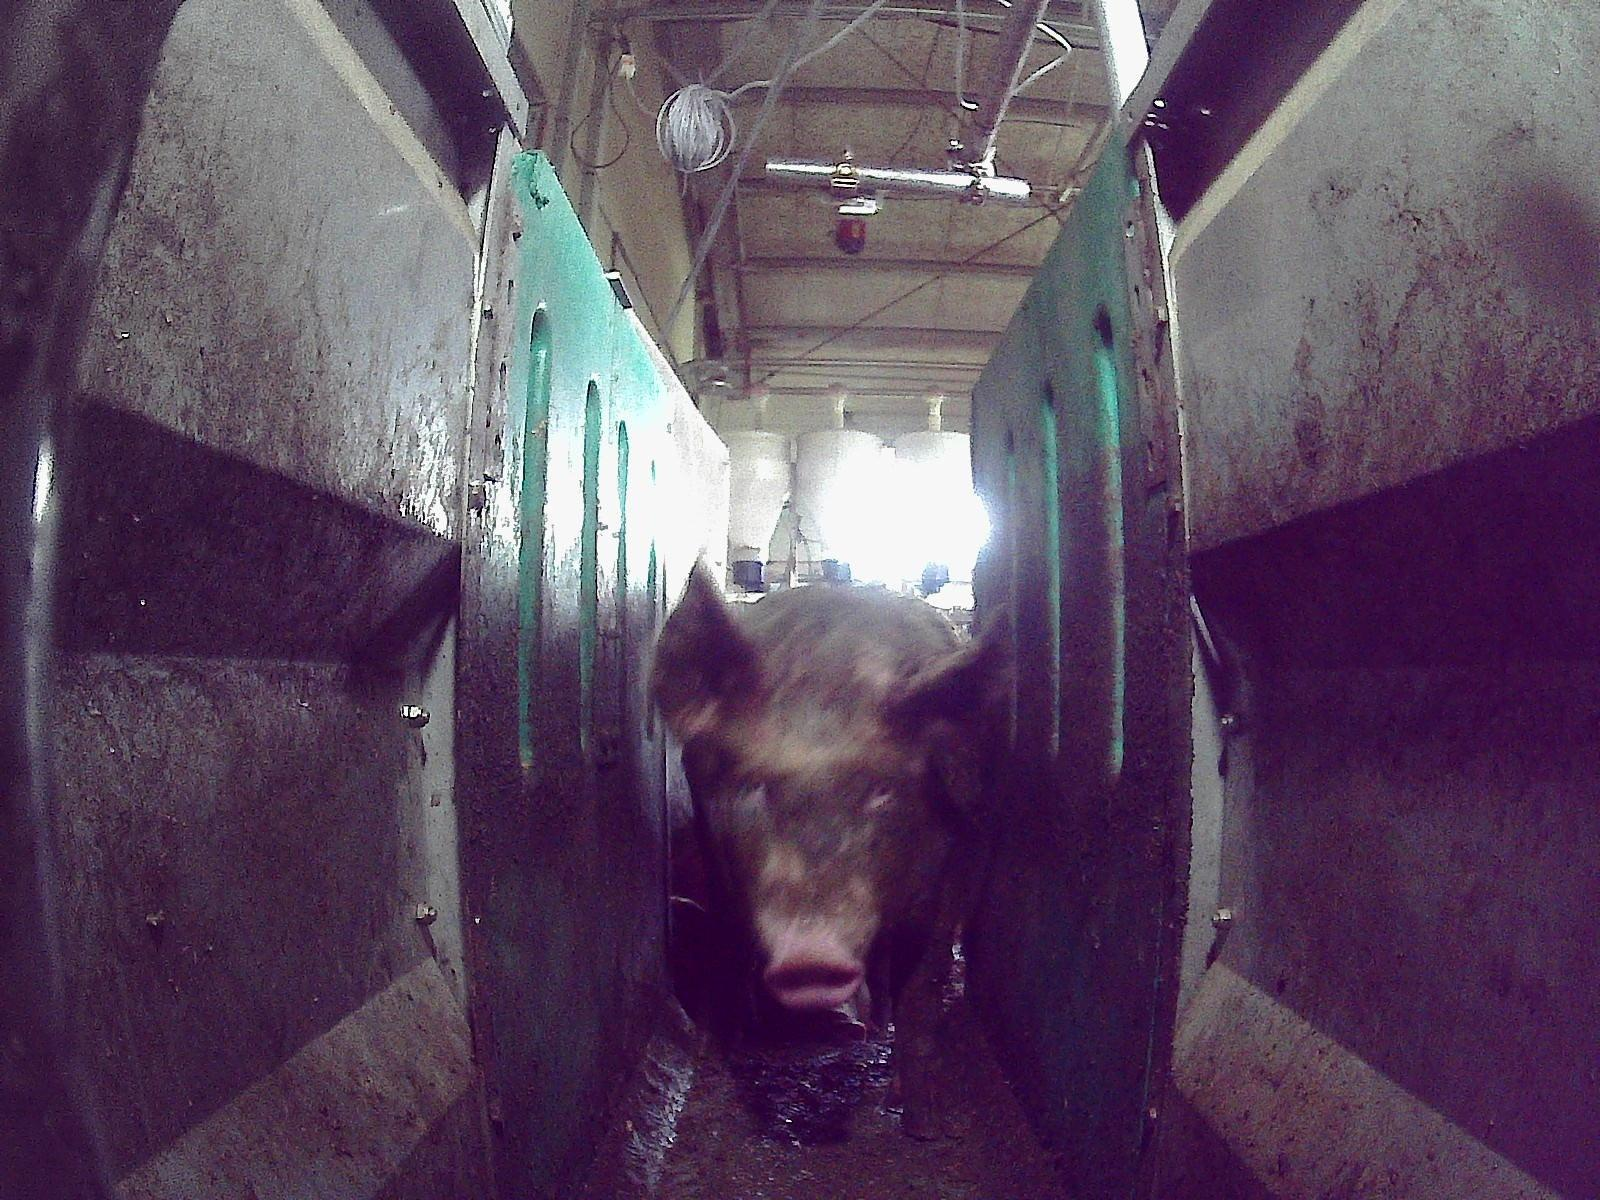Face: (711, 698, 917, 1009)
